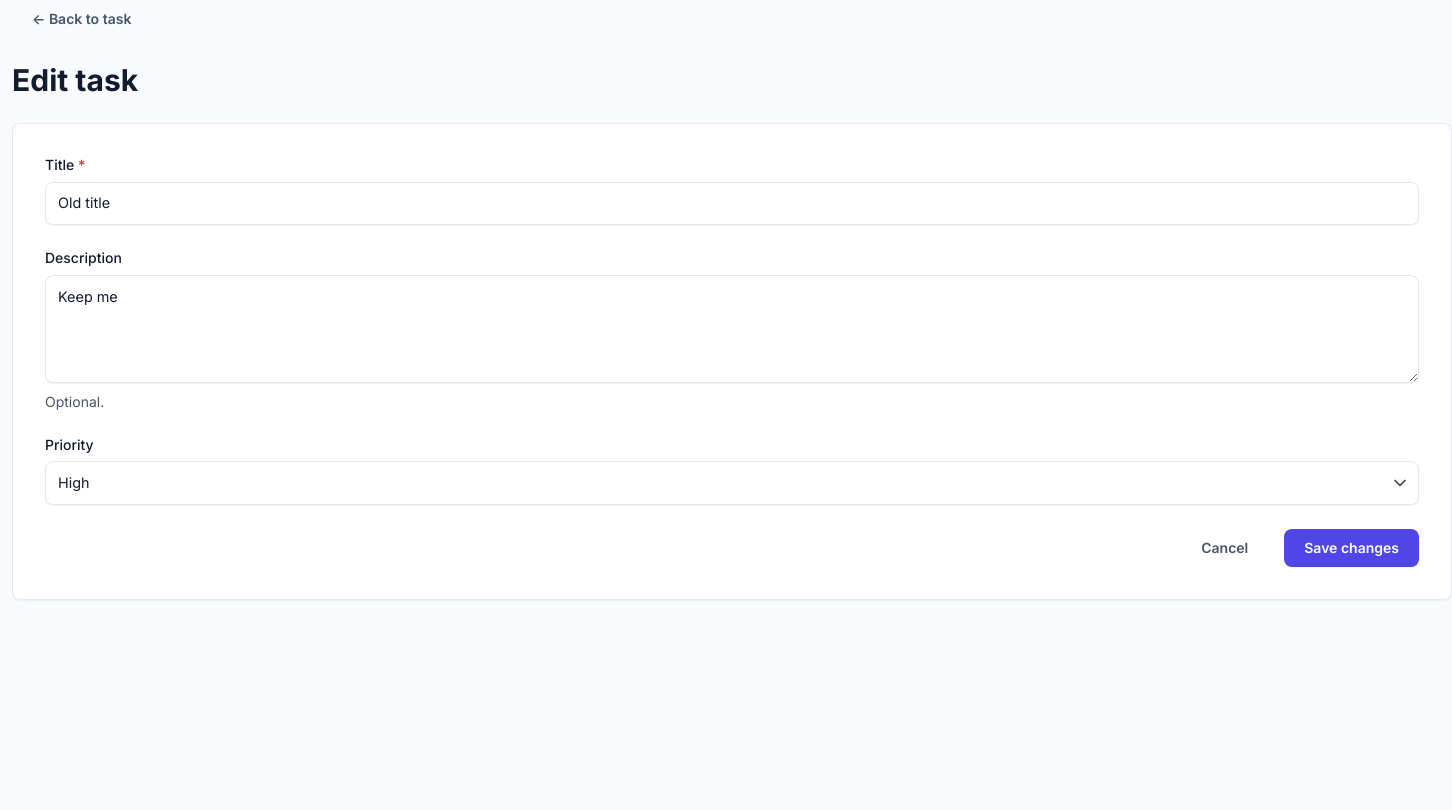
Test: TaskEditPage › falls back to not-found when the task vanished before the save landed
Replace the text in the field labelled "Title *" with "New title". click: [732, 203]
box: [45,182,1419,225]
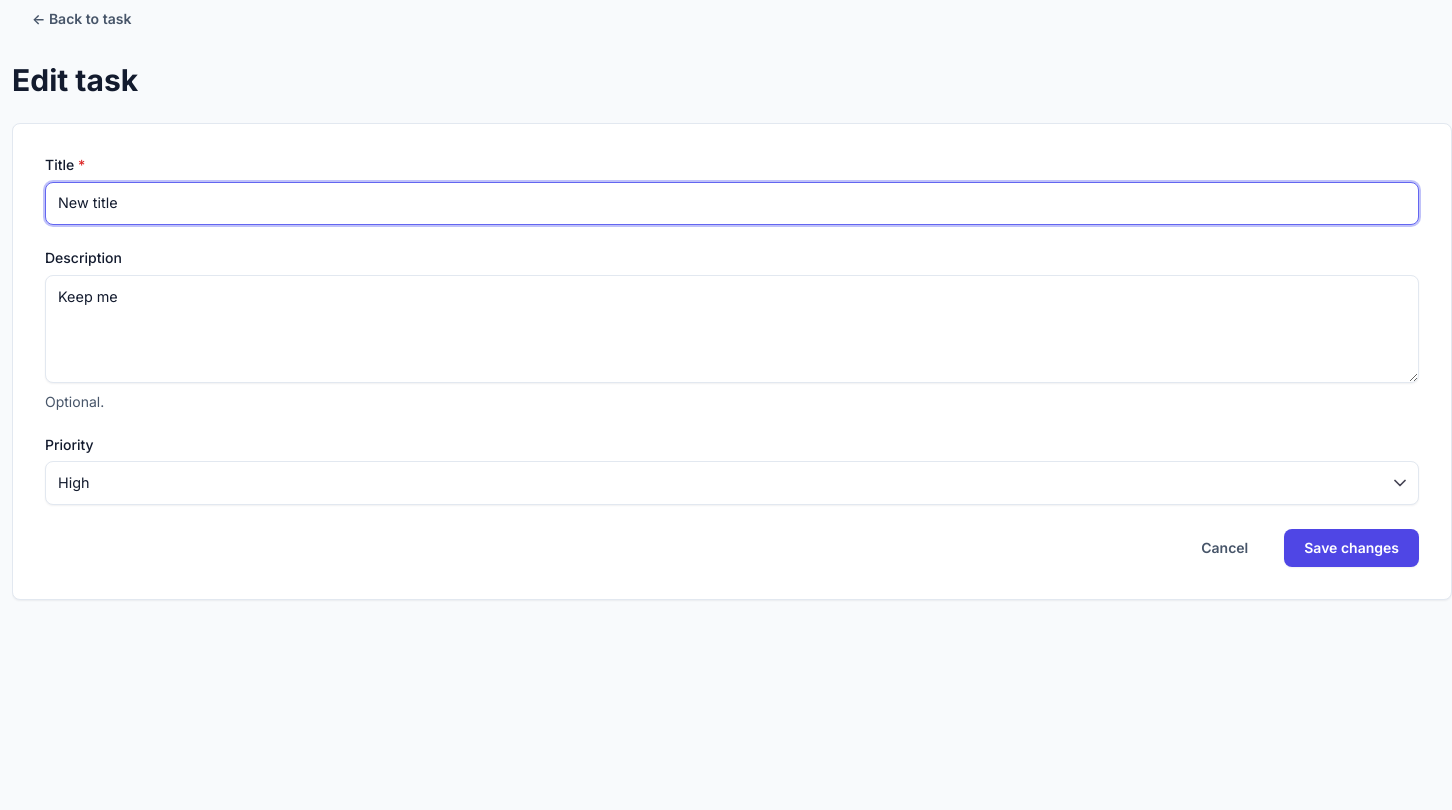
Click the button "Save changes". click: [1352, 548]
box: [1284,529,1419,566]
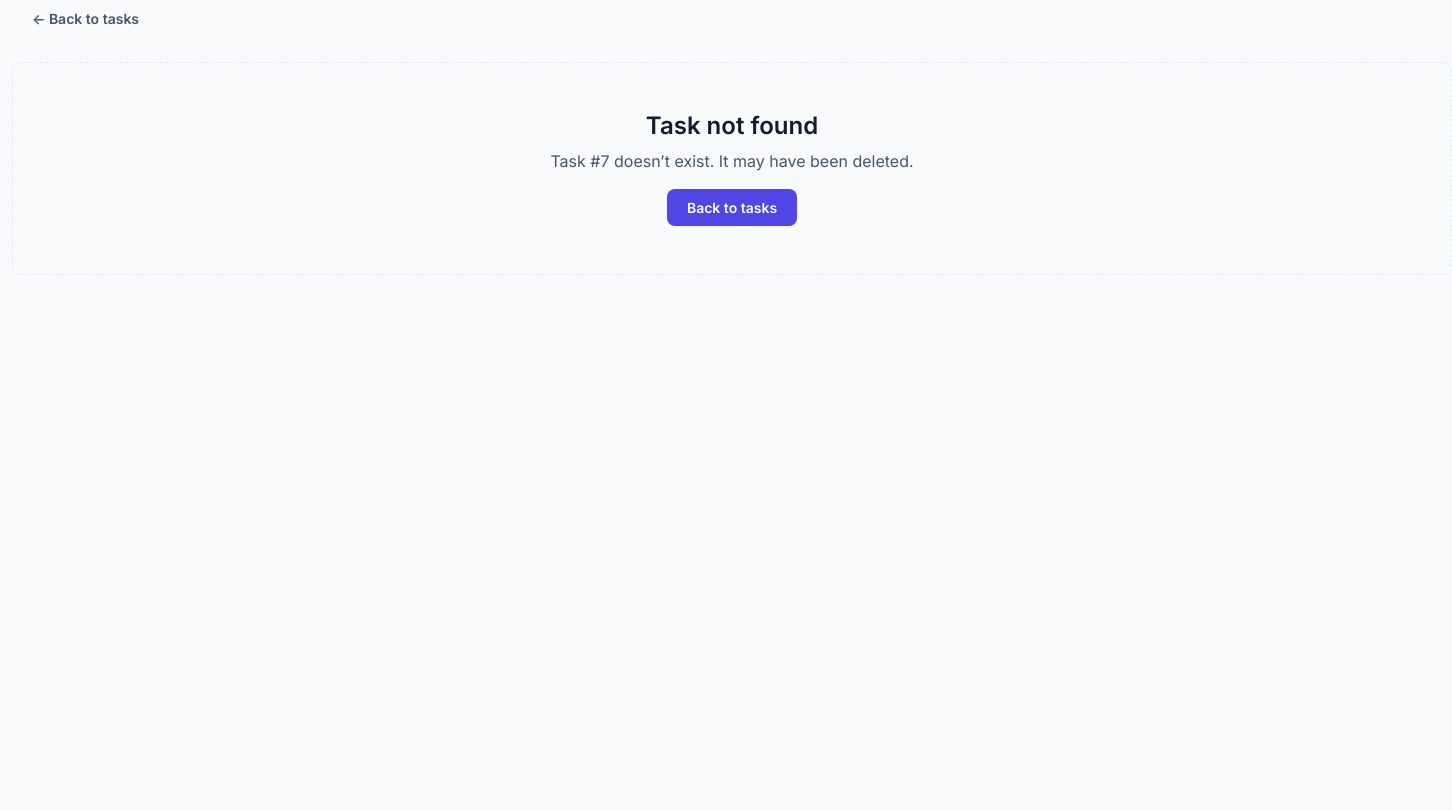
Result: the heading "Task not found" is shown at [646,110,818,140]
